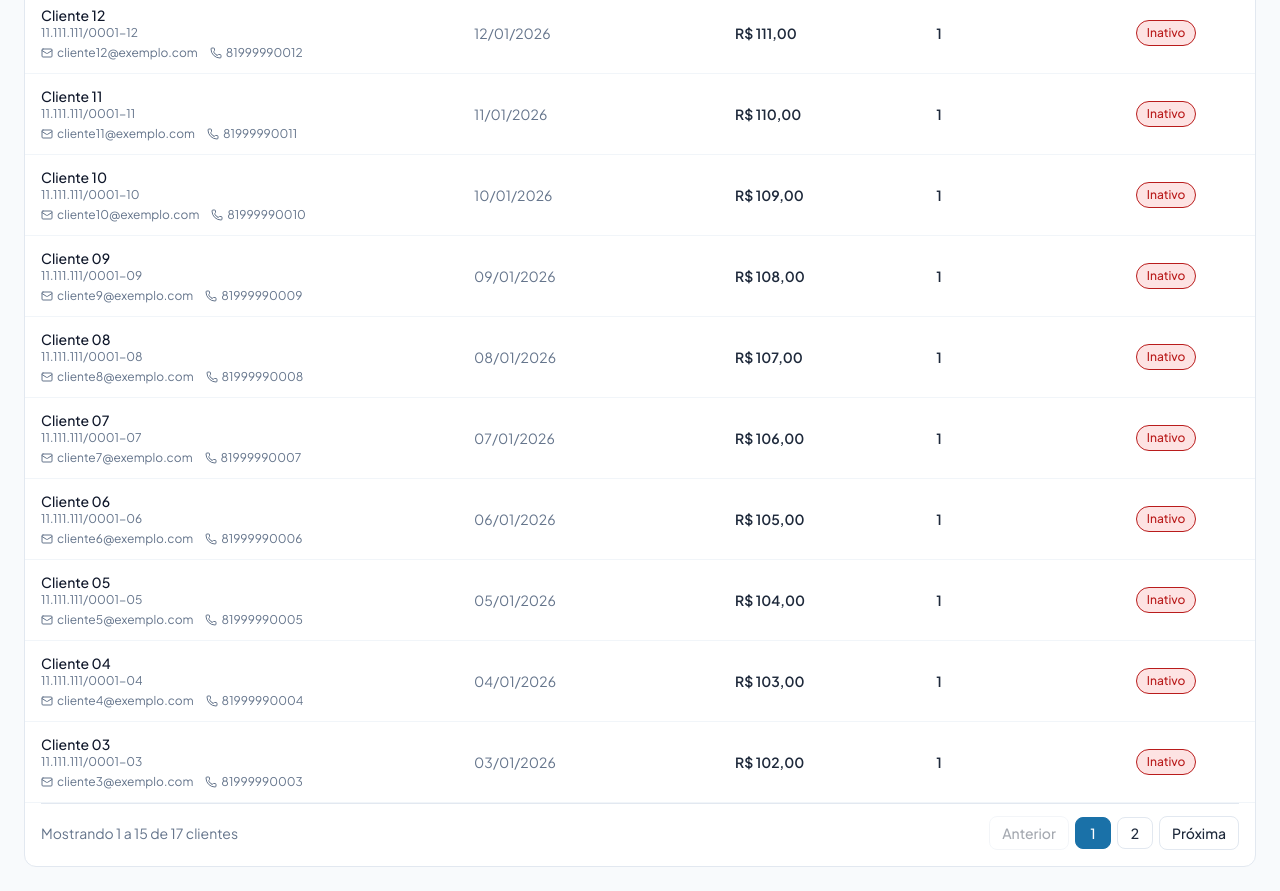
Test case: paginacao em Clientes › Anterior volta para a primeira
(page scrolled)
Click the button "Próxima".
click(1199, 833)  # box [1159, 816, 1239, 850]
(page scrolled)
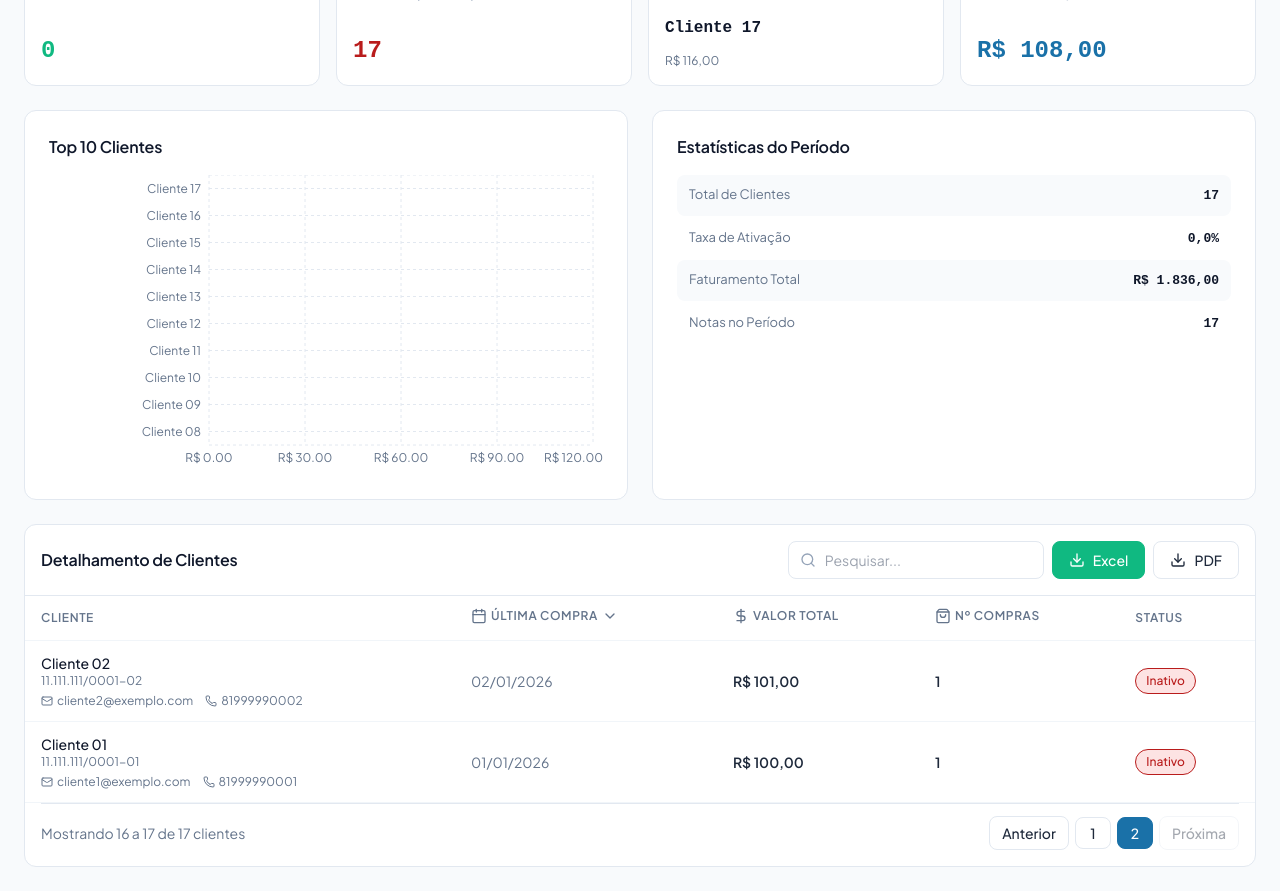
Click the button "Anterior".
click(1029, 833)  # box [989, 816, 1069, 850]
(page scrolled)
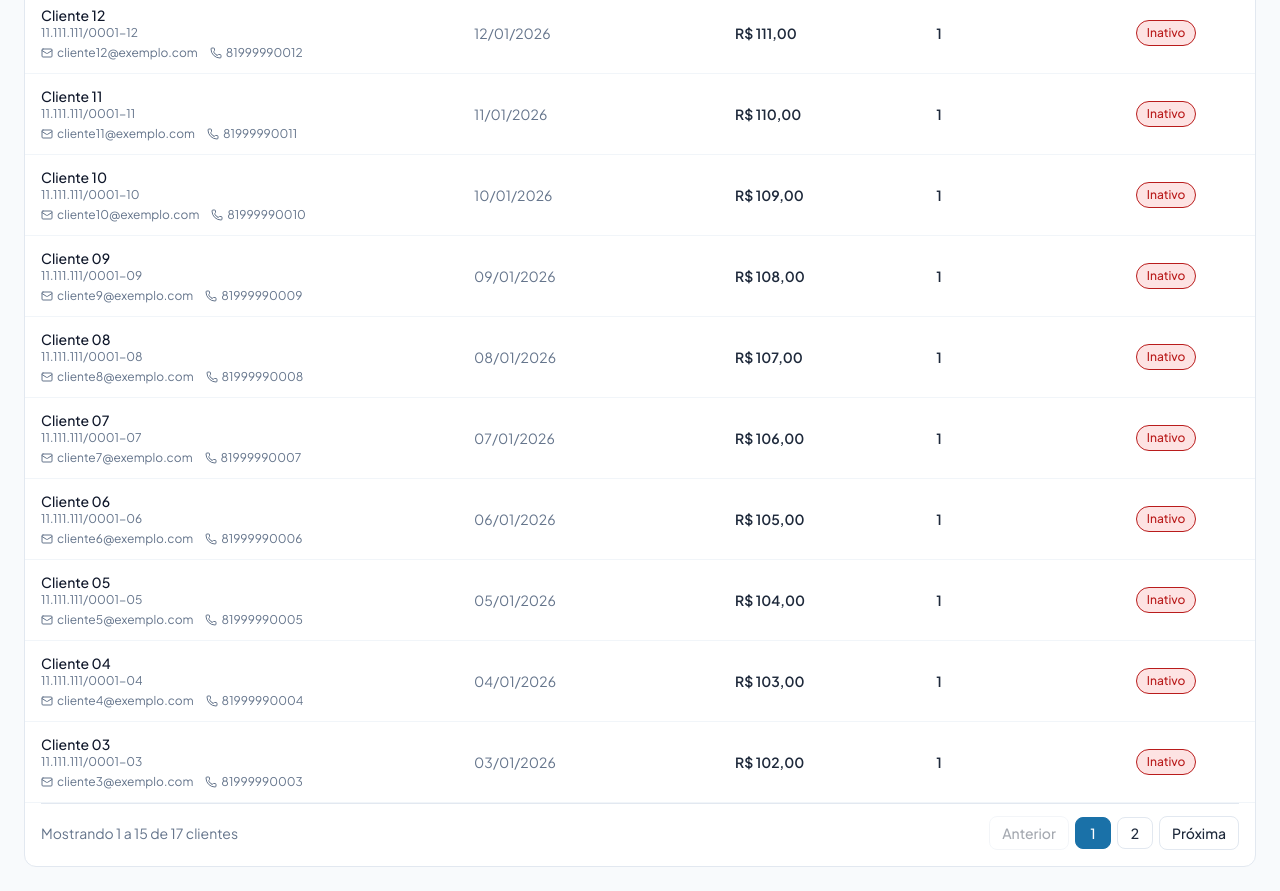
Check: the text "Mostrando 1 a 15 de 17 clientes" is shown, box [41, 823, 238, 843]
